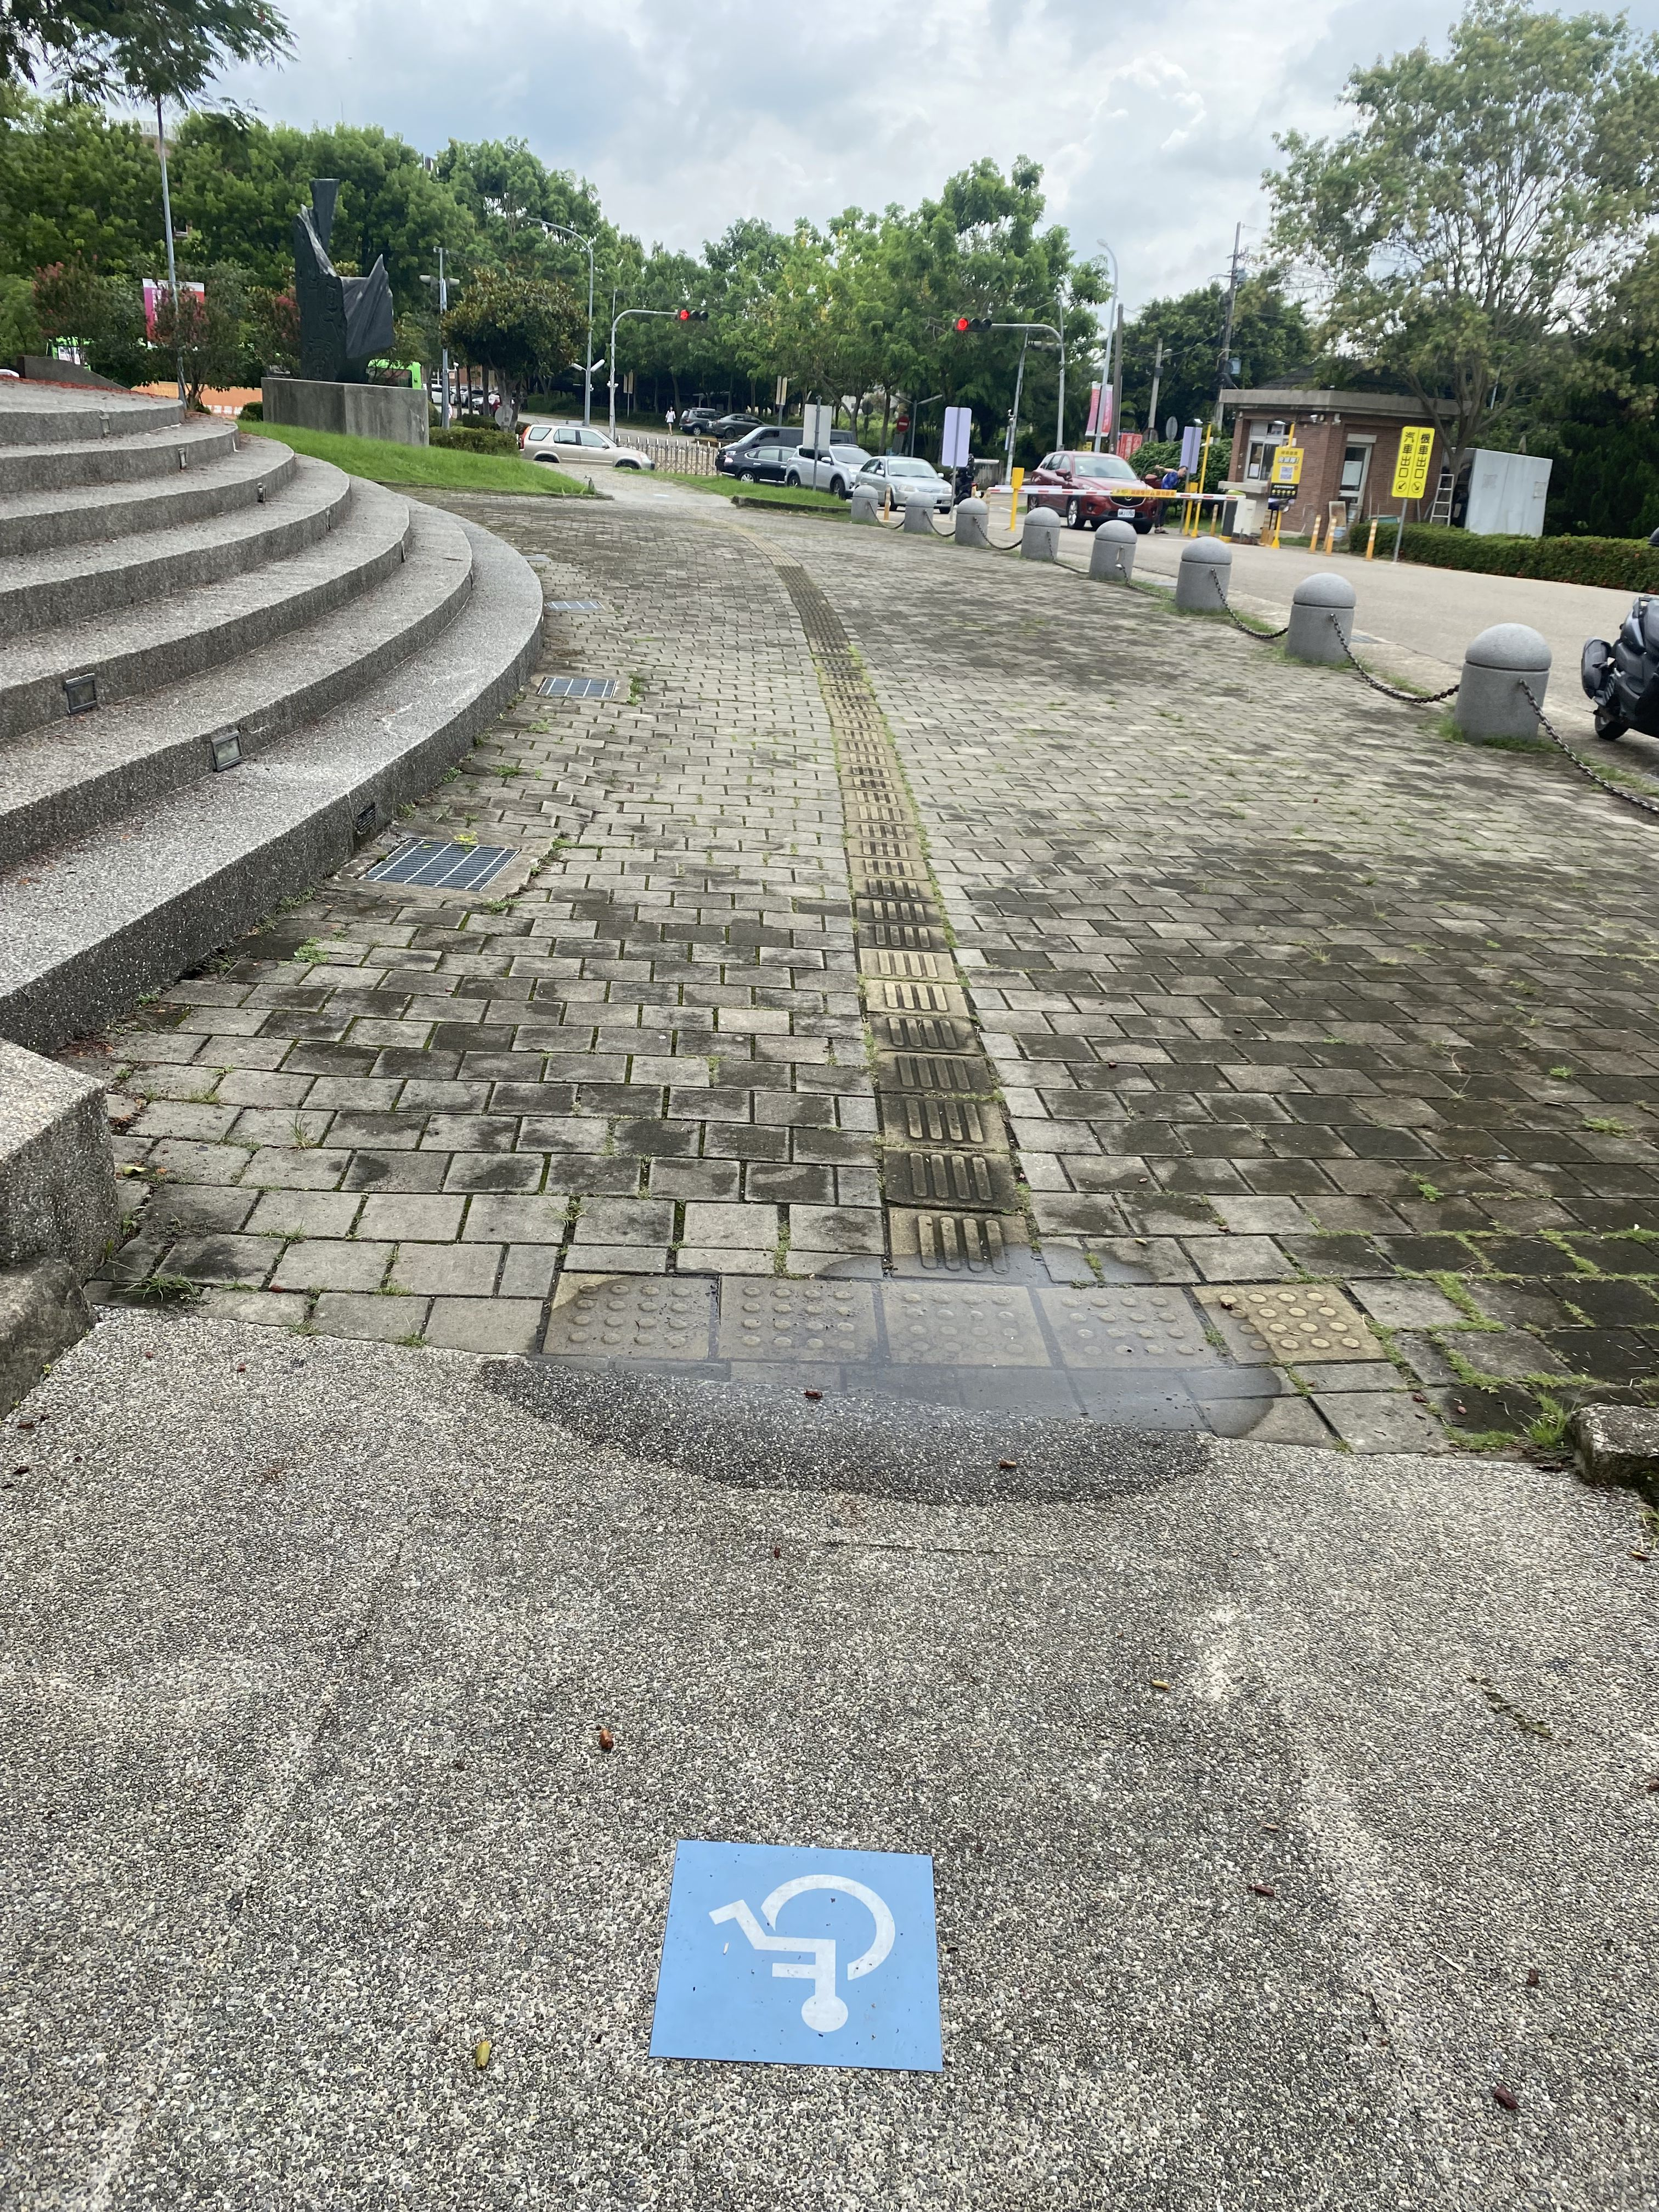0: (7, 1392, 1659, 2212)
sidewalk: (0, 449, 1659, 1500)
